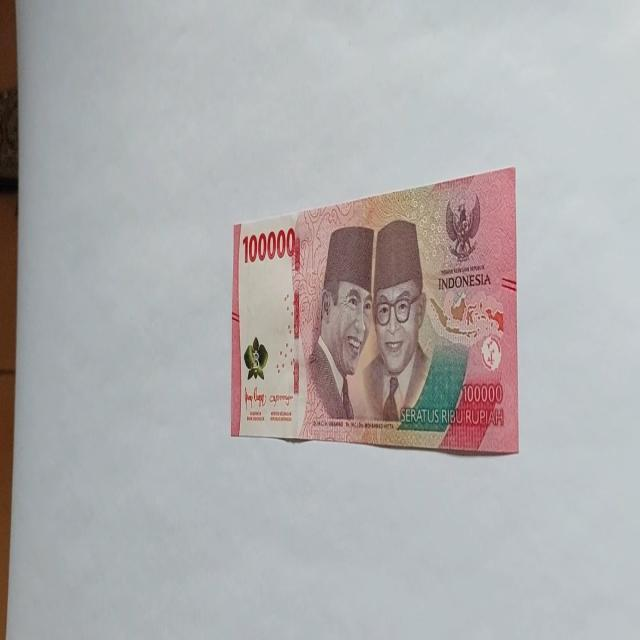seratus ribu rupiah: (230, 165, 518, 455), (300, 224, 374, 436)
